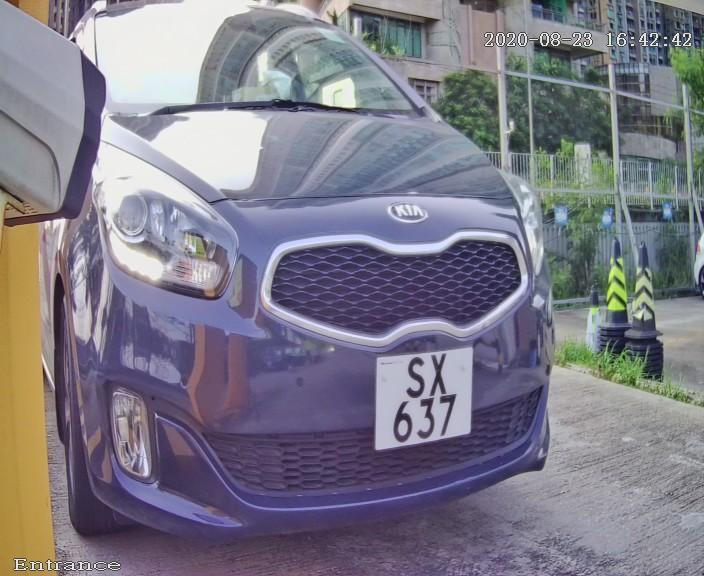Car: (29, 1, 601, 576)
License Plate: (365, 332, 481, 458)
